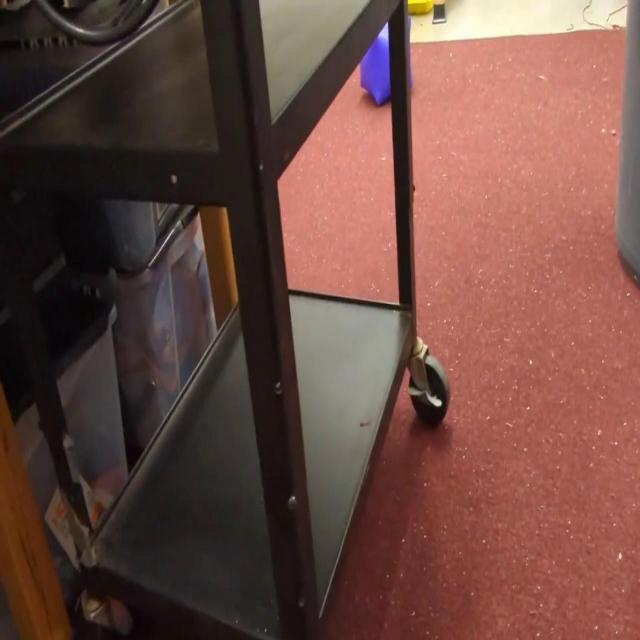frc_cube: (360, 11, 414, 109)
